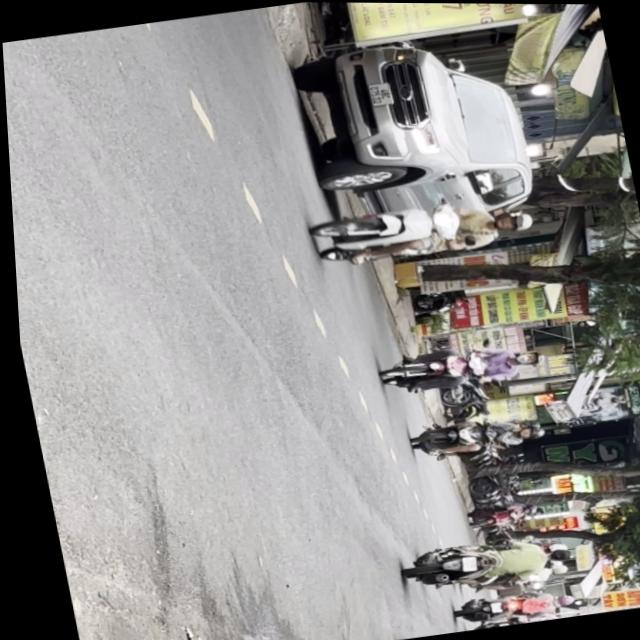helmet: (491, 206, 533, 232)
licenseplate: (303, 184, 539, 273)
